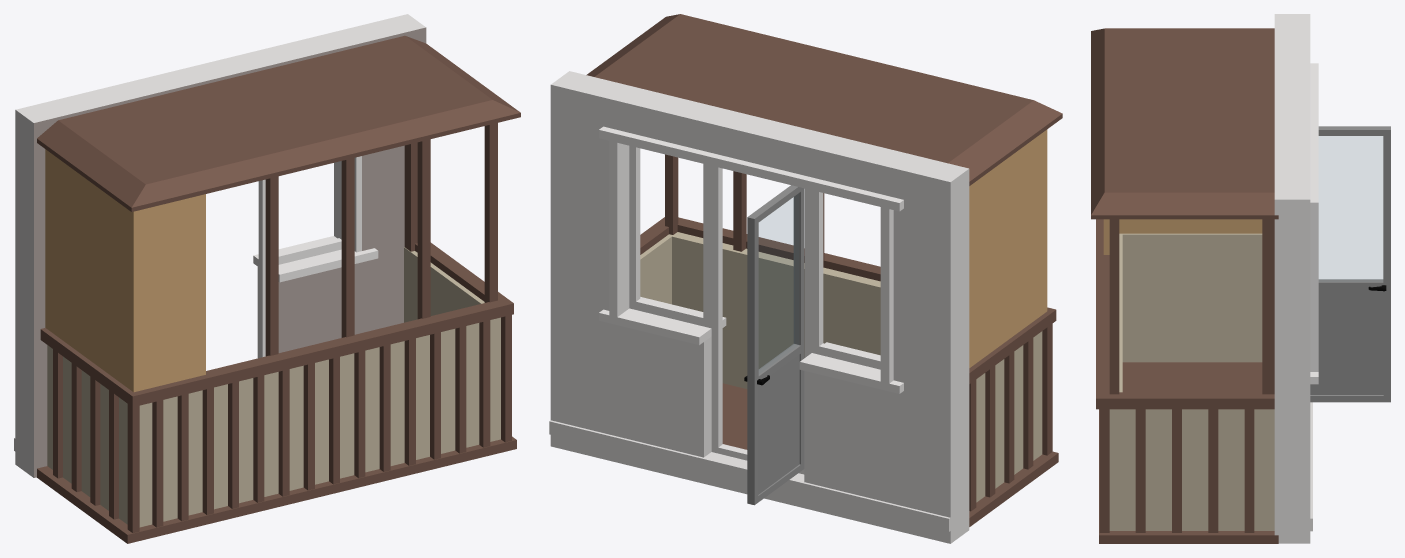
File: Hub_3_balcony_type4.FBX
3 views of the same model, side by side, from view 1: azimuth 30°, elevation 25°; view 2: azimuth 150°, elevation 25°; view 3: azimuth 270°, elevation 25° (orthographic). The views are drawn at different scales.
Parts seen in each view (by area): view 1: Hub_3_balcony_type4_002; view 2: Hub_3_balcony_type4_002, Balcony_door_025; view 3: Hub_3_balcony_type4_002, Balcony_door_025.
Part boxes in pixels (x1,y1,x2,y2): Hub_3_balcony_type4_002: [14, 14, 520, 543]; Hub_3_balcony_type4_002: [549, 14, 1062, 543]; Balcony_door_025: [744, 185, 804, 505]; Hub_3_balcony_type4_002: [1091, 14, 1318, 543]; Balcony_door_025: [1310, 126, 1390, 402].
Size of the model in its own units: 813 by 703 by 555.
Materials: 4 (1 with a texture image).
